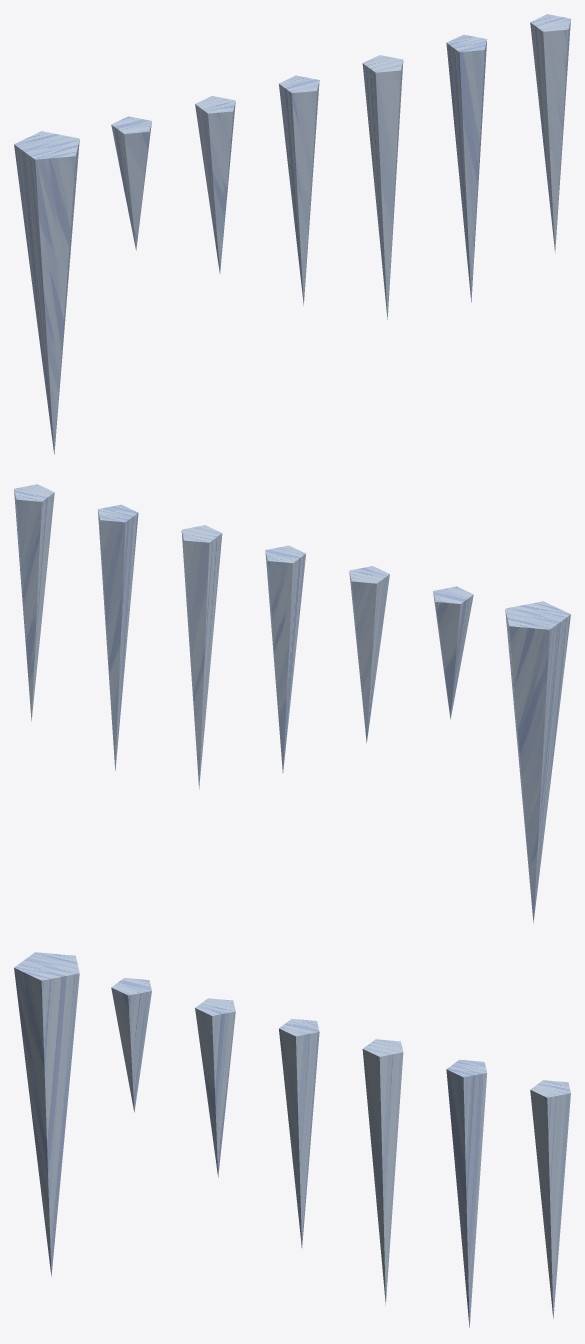
File: icicle_cluster_mixed.glb
3 views of the same model, one above another, from view 1: azimuth 30°, elevation 25°; view 2: azimuth 150°, elevation 25°; view 3: azimuth 330°, elevation 25° (orthographic).
Visible parts, largest first — view 1: winter_icicle_cluster_mixed; view 2: winter_icicle_cluster_mixed; view 3: winter_icicle_cluster_mixed.
Boxes of the visible parts, x1,y1,x2,y2 form: winter_icicle_cluster_mixed: (14, 14, 570, 454); winter_icicle_cluster_mixed: (14, 484, 570, 923); winter_icicle_cluster_mixed: (14, 952, 570, 1327).
Bounding box in the file's own units: 1.2 × 0.65 × 0.13.
Materials: 1 (1 with a texture image).
